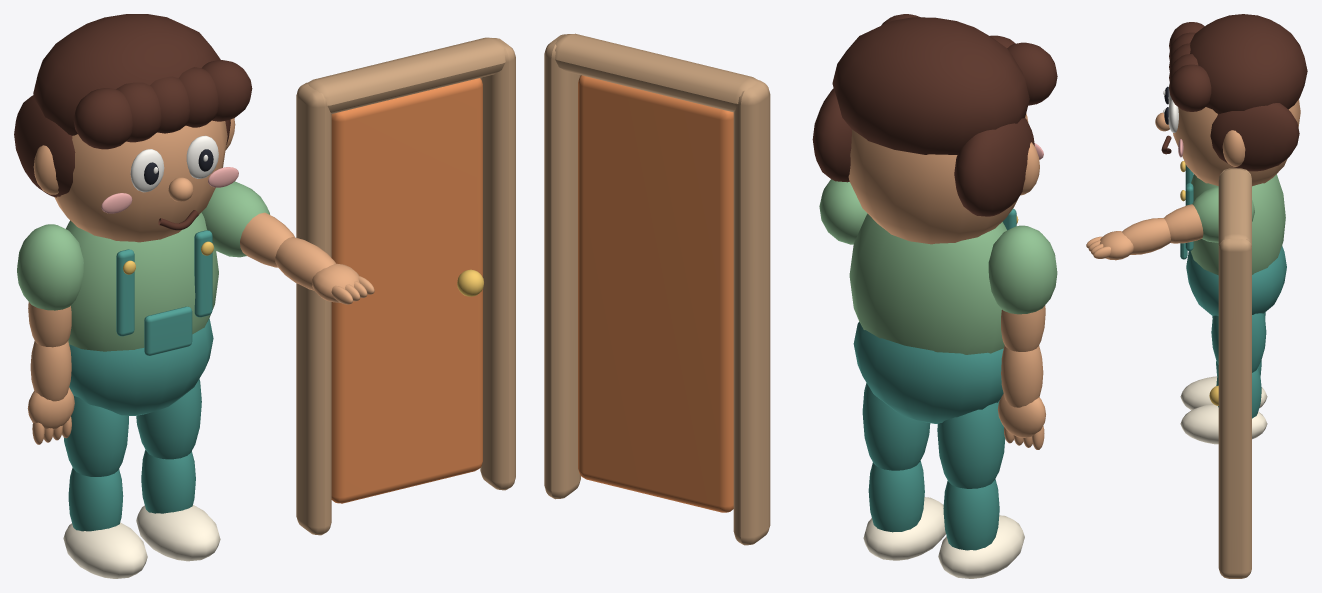
The model's file is daddy-open.glb.
3 views of the same model, side by side, from view 1: azimuth 30°, elevation 25°; view 2: azimuth 150°, elevation 25°; view 3: azimuth 270°, elevation 25° (orthographic). The views are drawn at different scales.
Parts seen in each view (by area): view 1: door, door frame, door frame.001, hair cap, soft shirt, clay head, overalls, door frame.002, shirt sleeve, trouser leg, little shoe.001, little shoe (+22 smaller); view 2: door, hair cap, door frame, soft shirt, door frame.001, clay head, overalls, door frame.002, bob hair, shirt sleeve, trouser leg, trouser leg.001 (+10 smaller); view 3: door frame.001, hair cap, bob hair.001, soft shirt, clay head, overalls, door frame.002, fringe.004, little shoe.001, forearm.001, upper arm.001, shirt sleeve.001 (+8 smaller).
Part boxes in pixels (x1,y1,x2,y2): door: (331, 78, 482, 503); door frame: (296, 82, 331, 535); door frame.001: (480, 38, 515, 490); hair cap: (33, 14, 220, 135); soft shirt: (66, 212, 218, 351); clay head: (54, 120, 227, 242); overalls: (69, 318, 213, 415); door frame.002: (306, 37, 505, 113); shirt sleeve: (17, 224, 83, 310); trouser leg: (63, 396, 128, 476); little shoe.001: (136, 505, 220, 561); little shoe: (63, 522, 147, 578); door: (578, 75, 733, 512); hair cap: (832, 17, 1029, 154); door frame: (733, 80, 770, 545); soft shirt: (849, 213, 1006, 354); door frame.001: (544, 34, 580, 499); clay head: (848, 113, 1028, 244); overalls: (853, 321, 1003, 423); door frame.002: (555, 33, 759, 112); bob hair: (954, 118, 1034, 216); shirt sleeve: (988, 225, 1057, 314); trouser leg: (937, 400, 1005, 488); trouser leg.001: (862, 383, 930, 470); door frame.001: (1218, 239, 1251, 578); hair cap: (1190, 14, 1307, 113); bob hair.001: (1210, 103, 1299, 171); soft shirt: (1190, 174, 1285, 275); clay head: (1173, 99, 1300, 186); overalls: (1186, 245, 1286, 315); door frame.002: (1218, 168, 1251, 245); fringe.004: (1169, 64, 1211, 111); little shoe.001: (1180, 404, 1267, 444); forearm.001: (1122, 218, 1170, 254); upper arm.001: (1164, 204, 1203, 243); shirt sleeve.001: (1192, 186, 1254, 242).
Size of the model in its own units: 2.07 by 2.22 by 1.06.
